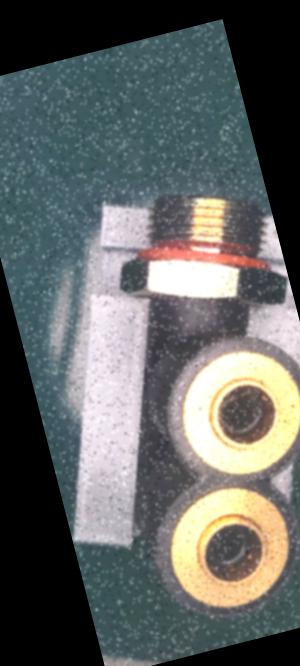bump: (146, 551, 172, 591)
off-centered: (210, 384, 276, 440)
white mark: (197, 300, 224, 319)
